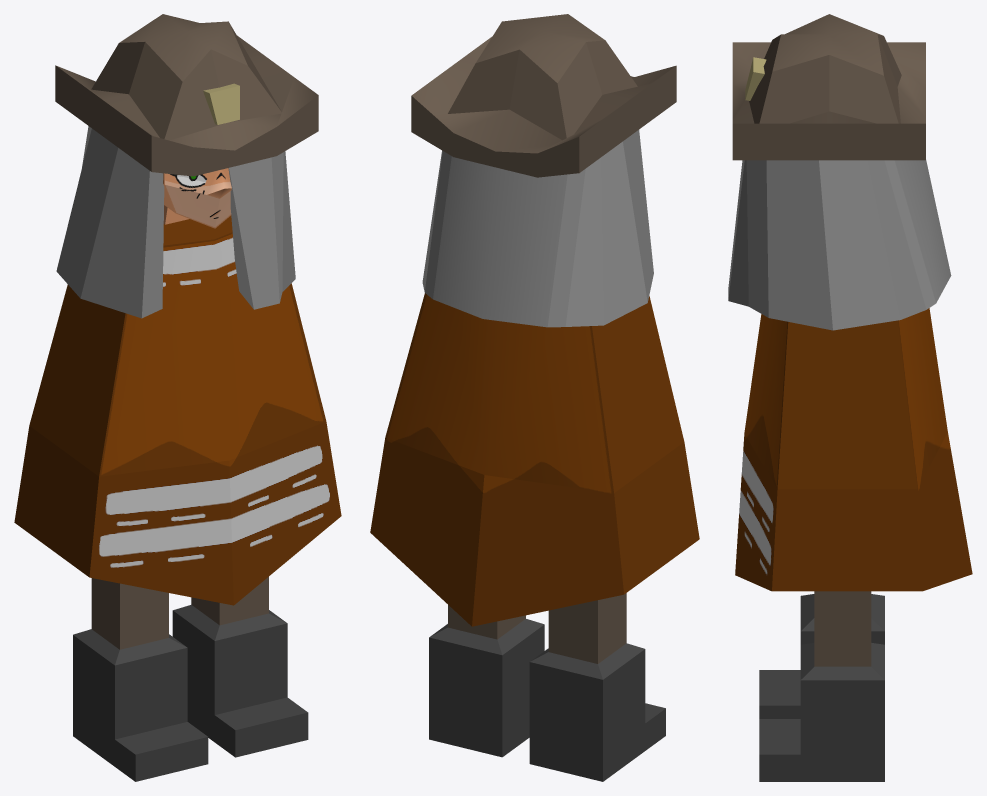
The model's file is sheriff.fbx.
3 renders of one model, left to right at view 1: azimuth 30°, elevation 25°; view 2: azimuth 150°, elevation 25°; view 3: azimuth 270°, elevation 25°, orthographic.
Parts seen in each view (by area): view 1: poncho, pCube1, pCube2, rightleg, leftleg, head, pCube3; view 2: poncho, pCube2, pCube1, rightleg, leftleg; view 3: poncho, pCube2, pCube1, leftleg, rightleg, pCube3.
Part boxes in pixels (<box>): poncho: <box>14,215,341,605</box>; pCube1: <box>55,14,318,176</box>; pCube2: <box>56,126,295,318</box>; rightleg: <box>73,578,208,781</box>; leftleg: <box>172,577,308,757</box>; head: <box>163,168,231,228</box>; pCube3: <box>203,83,239,124</box>; poncho: <box>370,293,699,626</box>; pCube2: <box>422,129,653,327</box>; pCube1: <box>411,14,676,177</box>; rightleg: <box>529,593,665,781</box>; leftleg: <box>429,605,544,757</box>; poncho: <box>735,308,972,591</box>; pCube2: <box>728,160,951,330</box>; pCube1: <box>732,14,925,160</box>; leftleg: <box>759,591,884,781</box>; rightleg: <box>759,594,884,718</box>; pCube3: <box>745,57,766,100</box>.
Size of the model in its own units: 5.18 by 13.81 by 4.33.
Materials: 7 (2 with a texture image).
